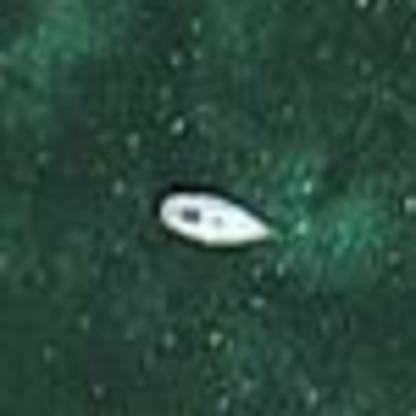ship: (149, 180, 294, 258)
